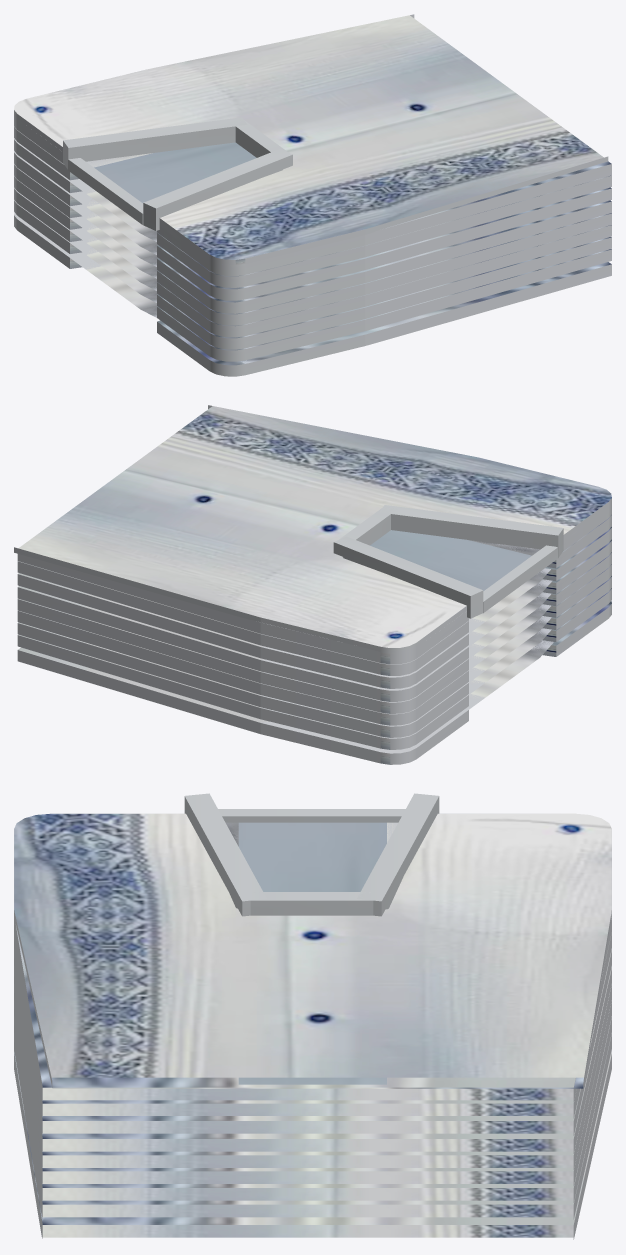
File: Guayabera2_5.obj
3 views of the same model, one above another, from view 1: azimuth 30°, elevation 25°; view 2: azimuth 150°, elevation 25°; view 3: azimuth 270°, elevation 25° (orthographic). The views are drawn at different scales.
Visible parts, largest first — view 1: Guayabera2; view 2: Guayabera2; view 3: Guayabera2.
Boxes of the visible parts, box(x1,y1,x2,y2) form: Guayabera2: box(14, 14, 611, 376); Guayabera2: box(14, 405, 611, 764); Guayabera2: box(14, 793, 611, 1239).
Size of the model in its own units: 0.3772 by 0.1129 by 0.35.
Materials: 1 (1 with a texture image).
